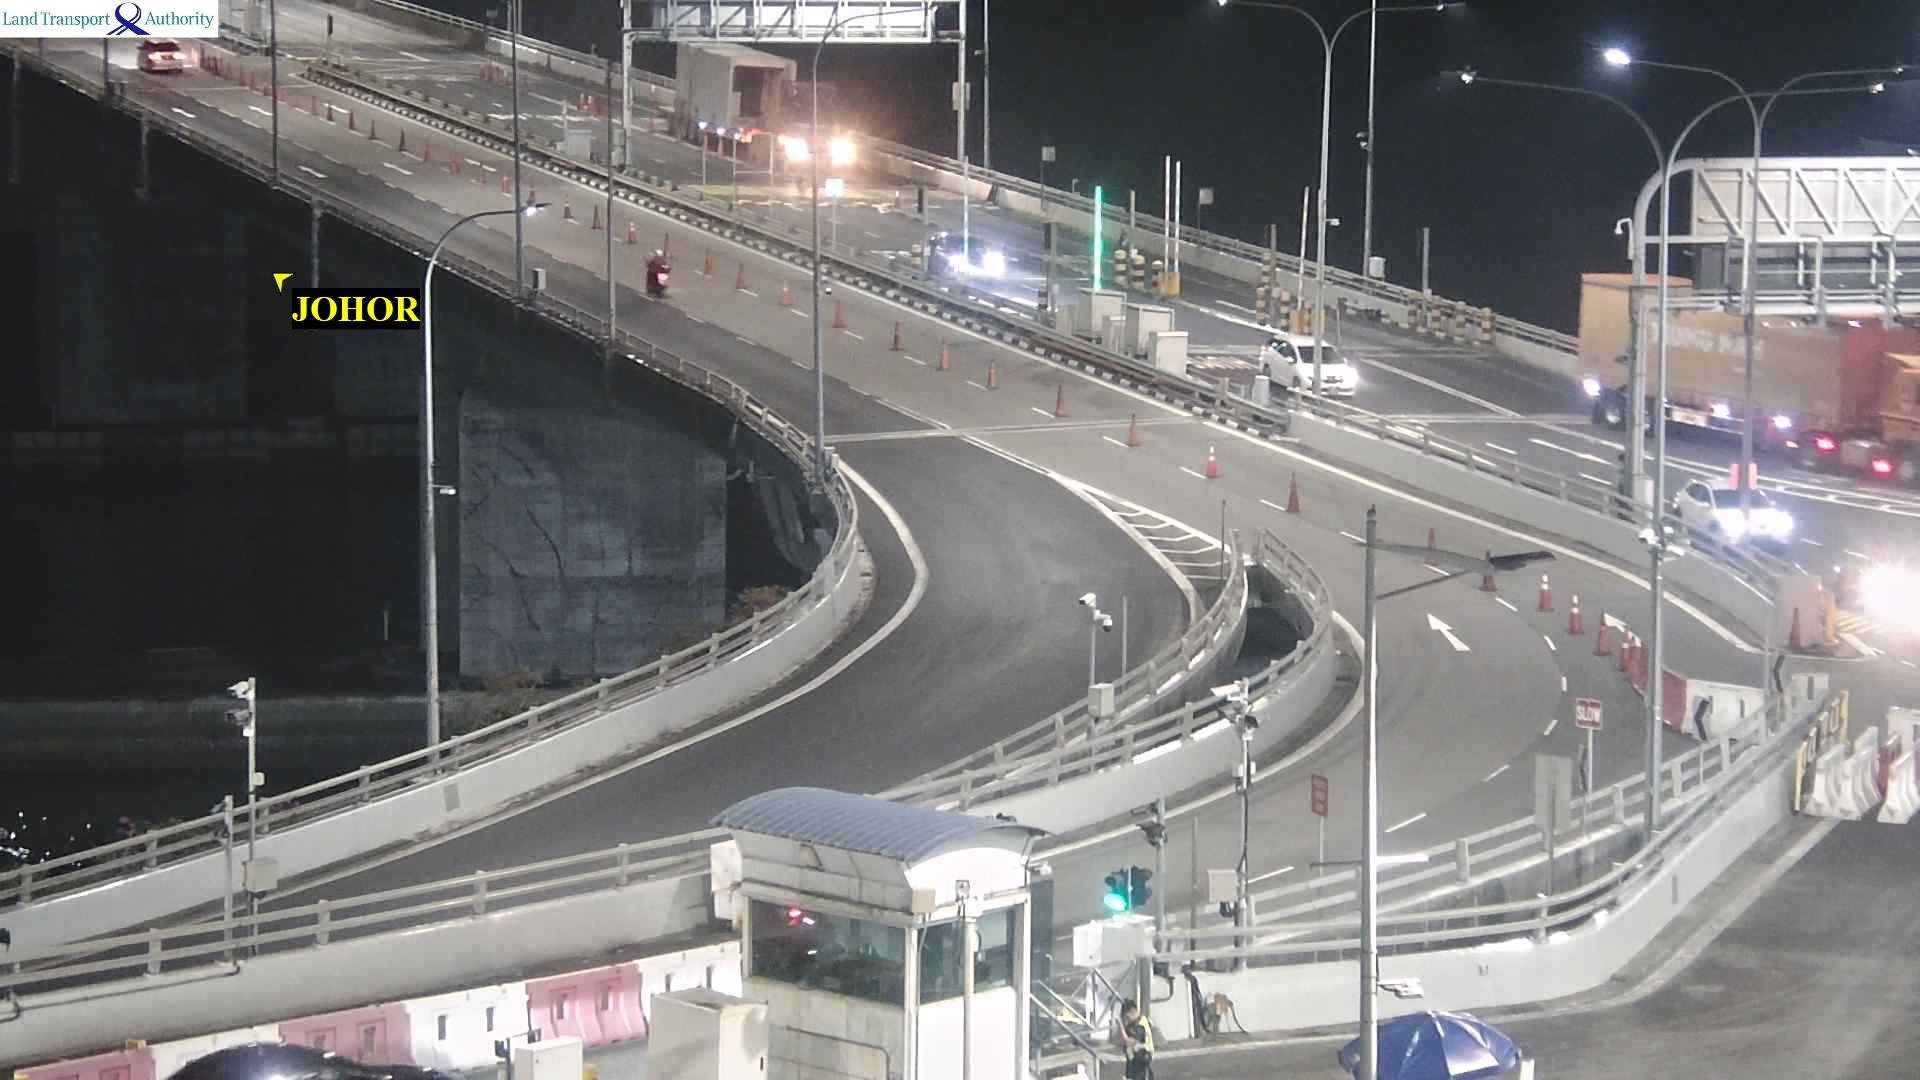vehicle-secondlink-singapore: (1568, 284, 1920, 452), (687, 49, 857, 187), (1261, 335, 1358, 404), (927, 233, 1023, 285), (1133, 800, 1172, 847), (644, 253, 674, 297)
